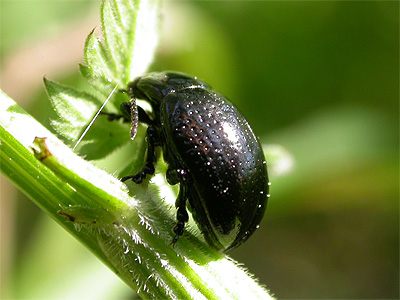Chrysolina_oricalcia: (97, 68, 272, 257)
